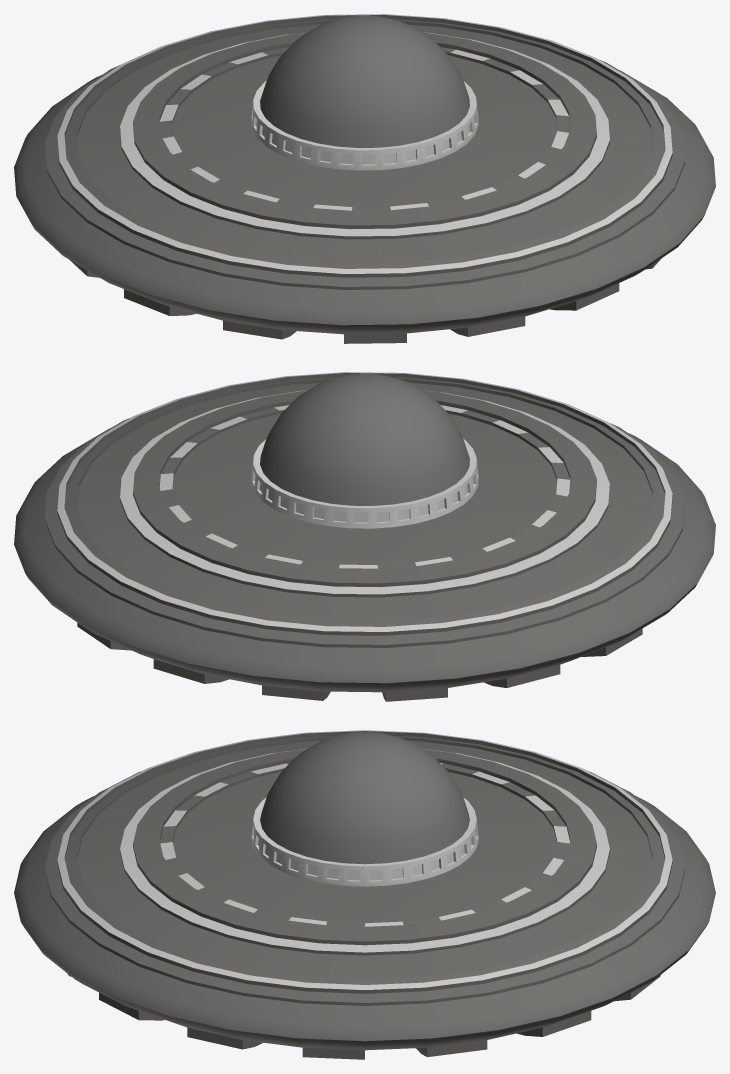
The model's file is enemy.obj.
3 renders of one model, top to bottom at view 1: azimuth 30°, elevation 25°; view 2: azimuth 150°, elevation 25°; view 3: azimuth 270°, elevation 25°, orthographic.
Visible parts, largest first — view 1: Sphere; view 2: Sphere; view 3: Sphere.
Boxes of the visible parts, box(x1,y1,x2,y2) form: Sphere: box(14, 14, 715, 343); Sphere: box(14, 372, 715, 701); Sphere: box(14, 730, 715, 1059).
Size of the model in its own units: 9.83 by 3.71 by 9.83.
3 materials, 1 textured.
